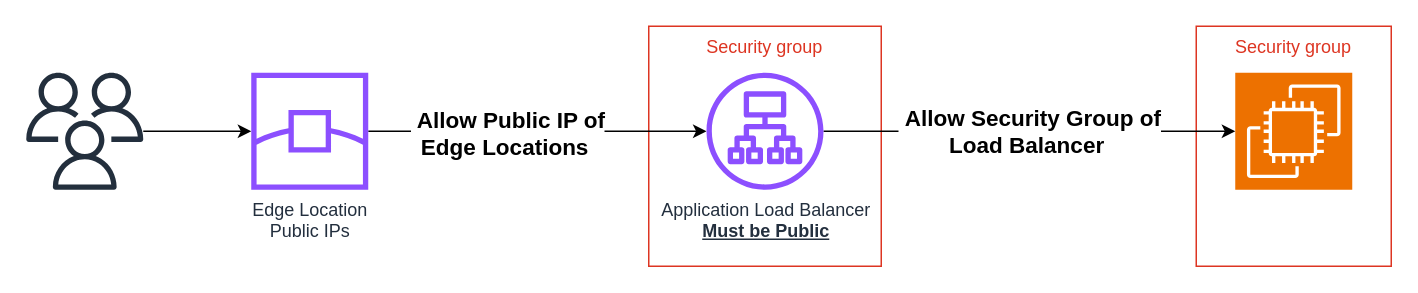
Some shapes in this 1418 by 293 pixel diagram are drawn without their labels. The shapes that lost their labels are listed below. From the top down, each one's centre as x and y in pixels, then its label:
At point 84,130: "Users".
At point 1293,130: "EC2 Instances Can be Private".
